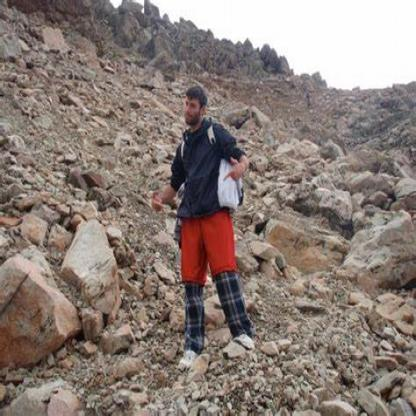person: (158, 74, 280, 370)
